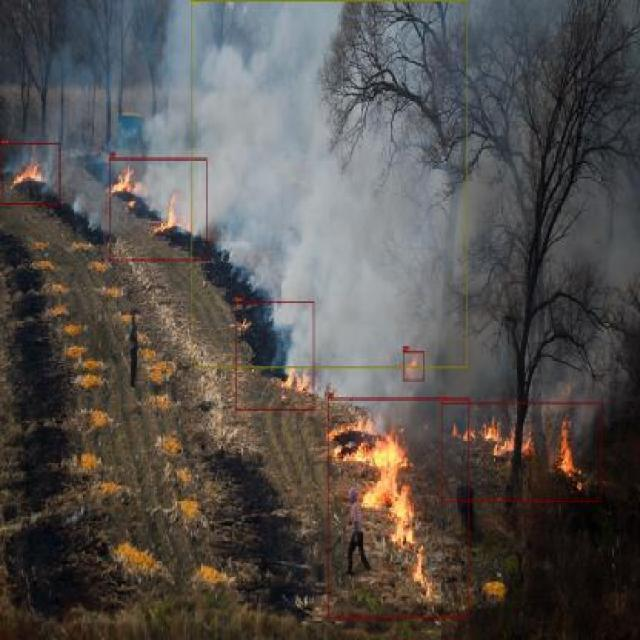Fire: (328, 398, 470, 618), (442, 402, 602, 500), (110, 157, 207, 260), (235, 301, 314, 410), (1, 142, 61, 204), (402, 352, 424, 381)
Smoke: (191, 0, 467, 368)
